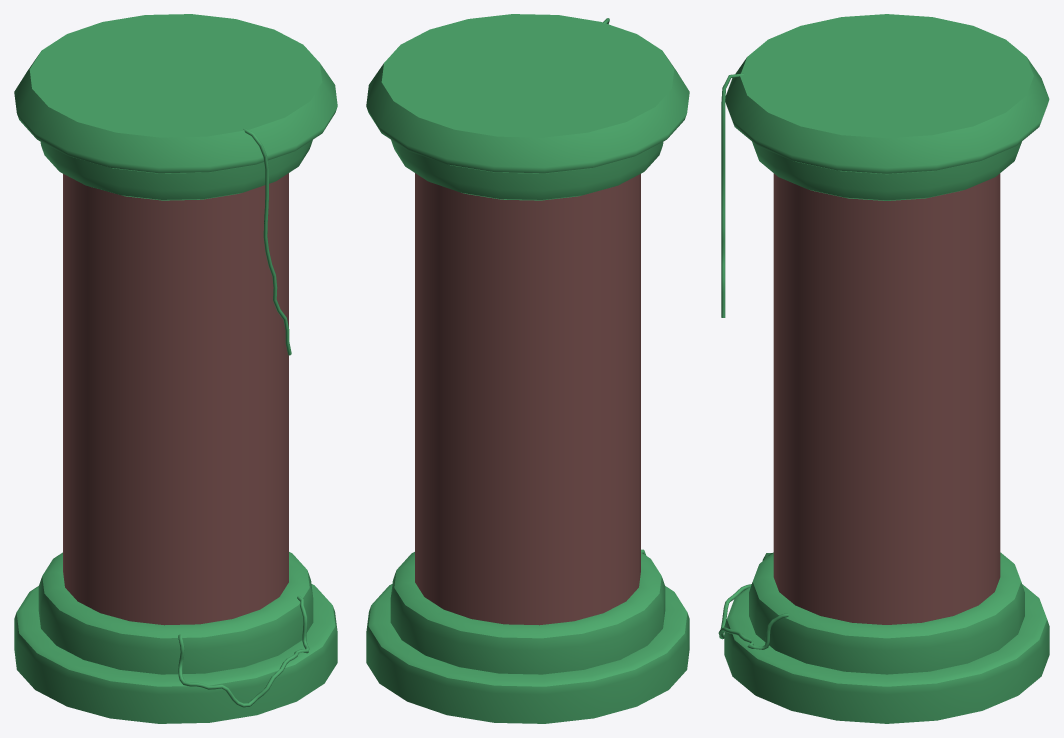
The model's file is Tubo_3.fbx.
3 renders of one model, left to right at view 1: azimuth 30°, elevation 25°; view 2: azimuth 150°, elevation 25°; view 3: azimuth 270°, elevation 25°, orthographic.
Visible parts, largest first — view 1: polySurface79, polySurface80, polySurface82, polySurface83, polySurface84; view 2: polySurface79, polySurface80, polySurface82; view 3: polySurface79, polySurface80, polySurface82, polySurface84, polySurface83.
Part boxes in pixels (left/top/right/bottom): polySurface79: left=63, top=173, right=288, bottom=625; polySurface80: left=14, top=14, right=337, bottom=200; polySurface82: left=14, top=552, right=337, bottom=723; polySurface83: left=178, top=595, right=309, bottom=707; polySurface84: left=243, top=128, right=291, bottom=355; polySurface79: left=415, top=173, right=640, bottom=625; polySurface80: left=366, top=14, right=689, bottom=200; polySurface82: left=366, top=552, right=689, bottom=723; polySurface79: left=773, top=173, right=1000, bottom=624; polySurface80: left=725, top=14, right=1049, bottom=200; polySurface82: left=724, top=552, right=1049, bottom=723; polySurface84: left=721, top=73, right=743, bottom=317; polySurface83: left=718, top=553, right=788, bottom=649.
Bounding box in the file's own units: 10.76 × 21.19 × 10.96.
